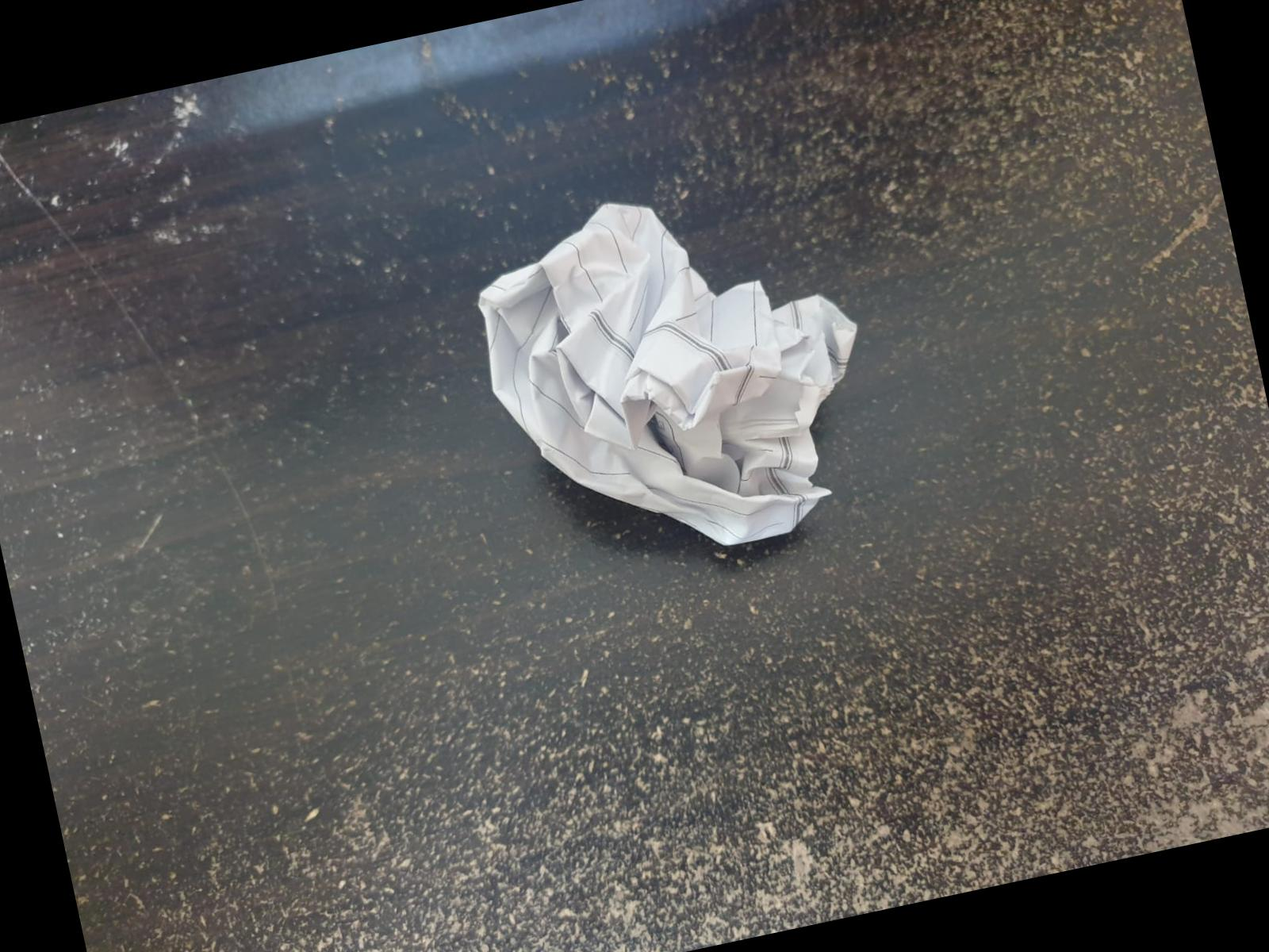Kertas: (475, 198, 867, 551)
